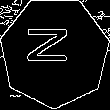N_E: (29, 32, 80, 73)
